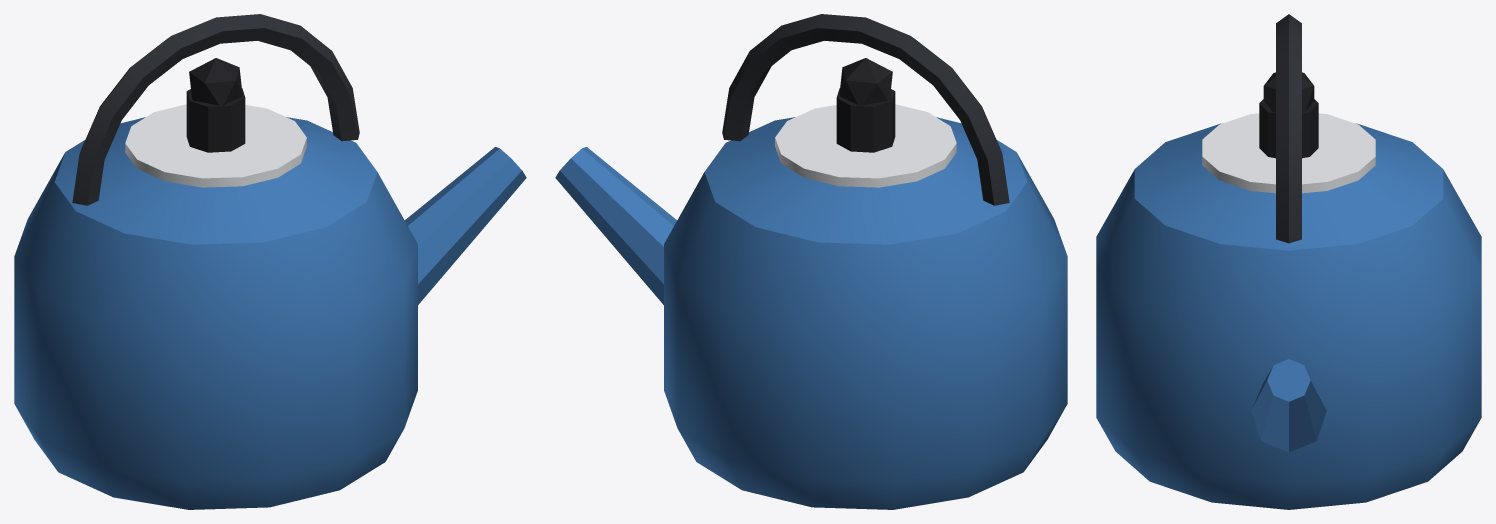
The model's file is SM_Kettle.glb.
The picture shows the model from 3 angles, left to right: view 1: azimuth 30°, elevation 25°; view 2: azimuth 150°, elevation 25°; view 3: azimuth 270°, elevation 25°; orthographic projection. The views are drawn at different scales.
Visible parts, largest first — view 1: SM_Kettle; view 2: SM_Kettle; view 3: SM_Kettle.
Boxes of the visible parts, x1,y1,x2,y2 form: SM_Kettle: (14, 14, 526, 509); SM_Kettle: (555, 14, 1067, 509); SM_Kettle: (1096, 14, 1481, 509).
Size of the model in its own units: 0.2746 by 0.227 by 0.195.
1 material, 1 textured.
